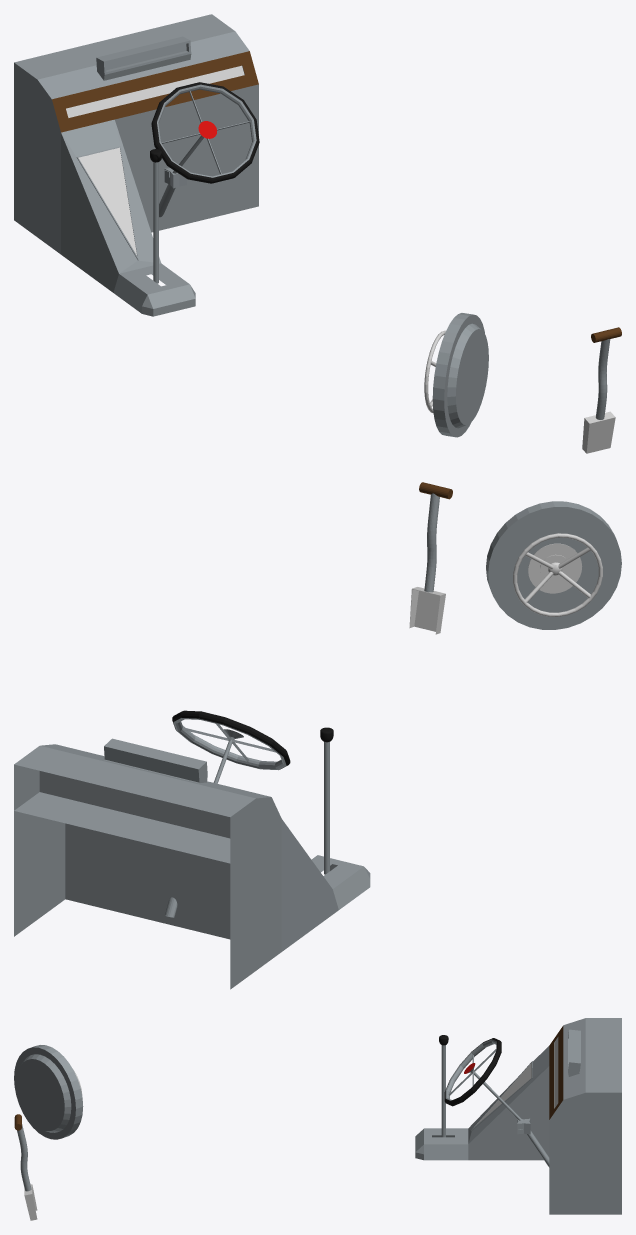
The model's file is Interactables.fbx.
3 renders of one model, top to bottom at view 1: azimuth 30°, elevation 25°; view 2: azimuth 150°, elevation 25°; view 3: azimuth 270°, elevation 25°, orthographic. The views are drawn at different scales.
Parts seen in each view (by area): view 1: Control_Dash, Control_Triangle, Furnance Door, Control_Crank_Base, Control_Wheel.001, Shovel, Control_Wheel, Control_Crank_Shaft; view 2: Control_Dash, Furnance Door, Control_Triangle, Shovel, Control_Wheel.001, Control_Crank_Base, Control_Crank_Shaft; view 3: Control_Dash, Control_Triangle, Furnance Door, Control_Crank_Base, Control_Wheel.001, Shovel, Control_Wheel, Control_Crank_Shaft.
Boxes of the visible parts, <box> form: Control_Dash: <box>14,14,258,254</box>; Control_Triangle: <box>61,119,160,292</box>; Furnance Door: <box>424,313,488,437</box>; Control_Crank_Base: <box>113,263,195,316</box>; Control_Wheel.001: <box>151,82,259,183</box>; Shovel: <box>582,327,621,453</box>; Control_Wheel: <box>159,121,217,217</box>; Control_Crank_Shaft: <box>150,149,162,283</box>; Control_Dash: <box>14,738,281,989</box>; Furnance Door: <box>486,501,621,629</box>; Control_Triangle: <box>281,819,338,951</box>; Shovel: <box>409,482,452,634</box>; Control_Wheel.001: <box>172,710,290,770</box>; Control_Crank_Base: <box>311,855,370,909</box>; Control_Crank_Shaft: <box>320,727,333,874</box>; Control_Dash: <box>549,1018,621,1214</box>; Control_Triangle: <box>468,1046,549,1160</box>; Furnance Door: <box>14,1045,83,1139</box>; Control_Crank_Base: <box>415,1128,468,1160</box>; Control_Wheel.001: <box>444,1038,501,1106</box>; Shovel: <box>14,1114,37,1220</box>; Control_Wheel: <box>464,1063,549,1167</box>; Control_Crank_Shaft: <box>439,1035,448,1137</box>.
Bounding box in the file's own units: 63.27 × 47.78 × 200.
